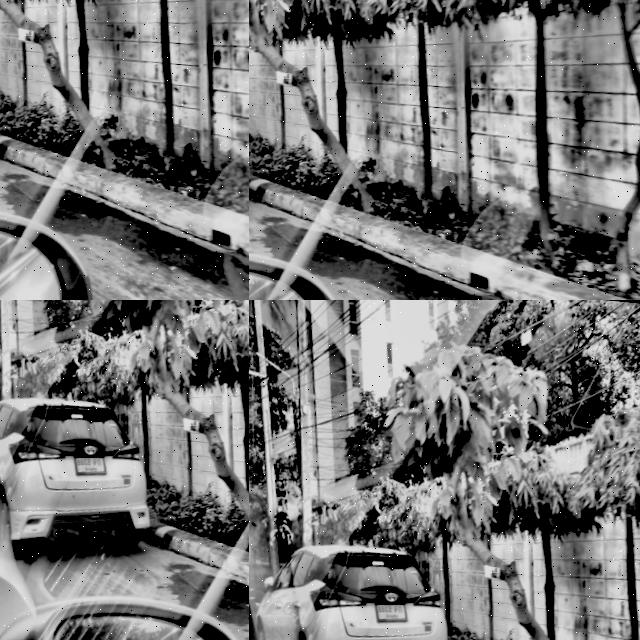license-plate: (366, 598, 404, 629)
